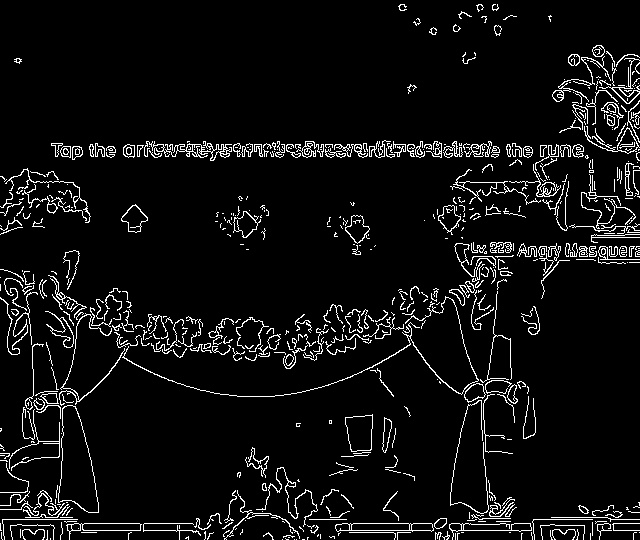down: (428, 197, 470, 242), (341, 210, 378, 248)
right: (223, 206, 268, 244)
up: (113, 198, 152, 242)
